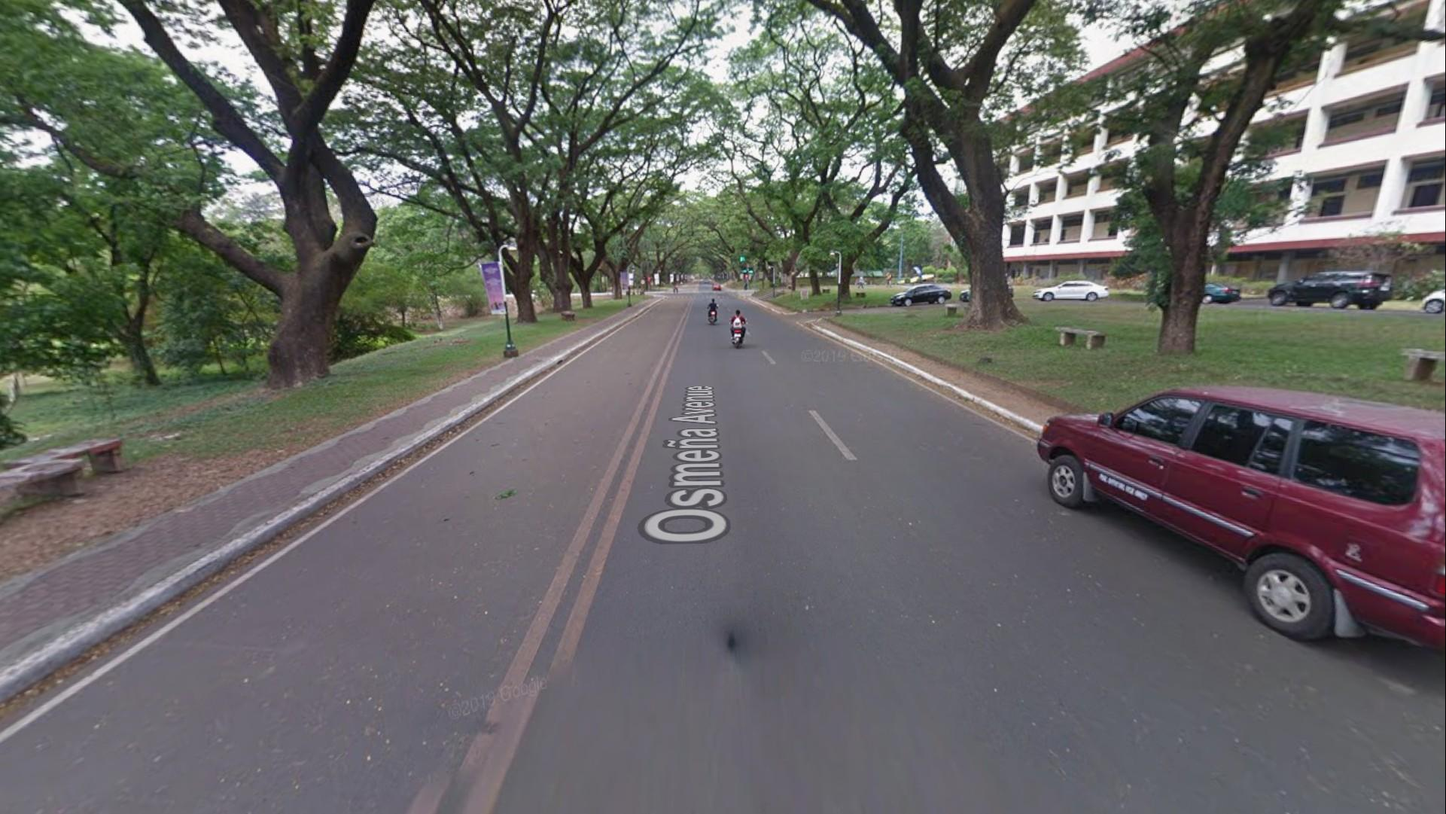pedestrian: (857, 274, 865, 290), (885, 271, 891, 287), (672, 281, 679, 293)
